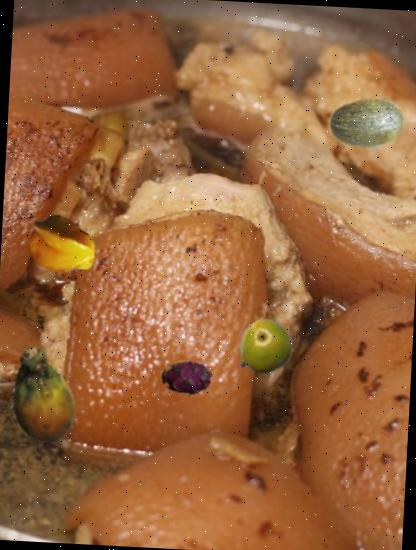Cactus: (0, 344, 95, 445)
Carambula: (23, 205, 102, 284)
Maracuja: (236, 318, 297, 378)
Melon: (328, 81, 406, 160)
Pitahaya: (160, 352, 215, 406)
